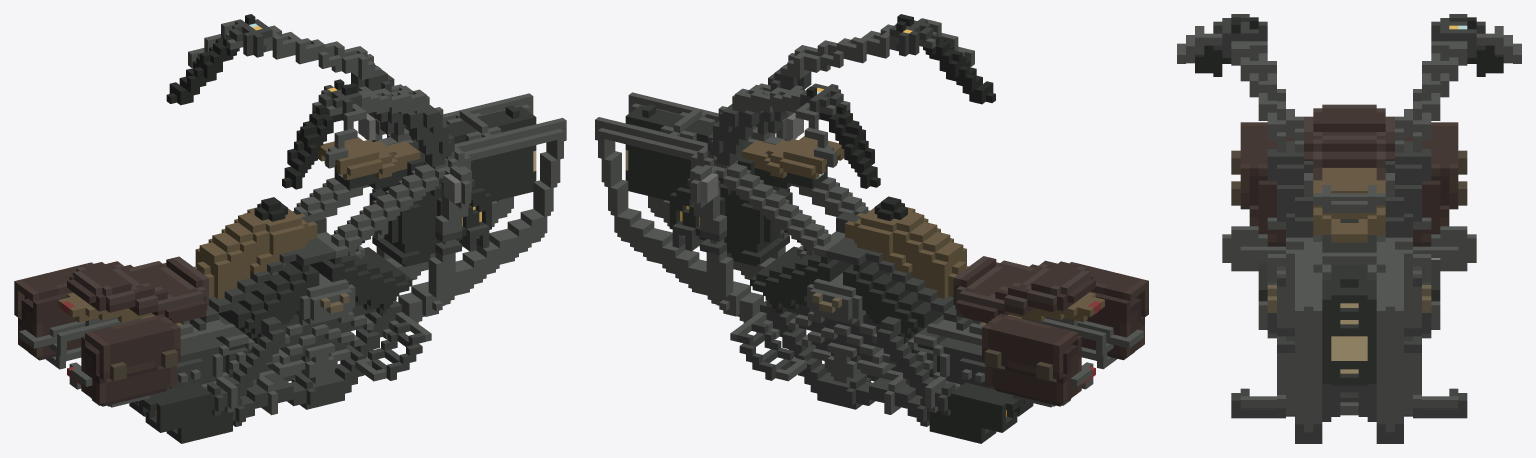
File: Chopper.glb
3 renders of one model, left to right at view 1: azimuth 30°, elevation 25°; view 2: azimuth 150°, elevation 25°; view 3: azimuth 270°, elevation 25°, orthographic. The views are drawn at different scales.
Parts seen in each view (by area): view 1: Chopper; view 2: Chopper; view 3: Chopper.
Part boxes in pixels (x1,y1,x2,y2): Chopper: (14, 14, 566, 443); Chopper: (595, 14, 1148, 443); Chopper: (1177, 14, 1521, 443).
Size of the model in its own units: 7.7 by 5 by 3.8.
1 material, 1 textured.
